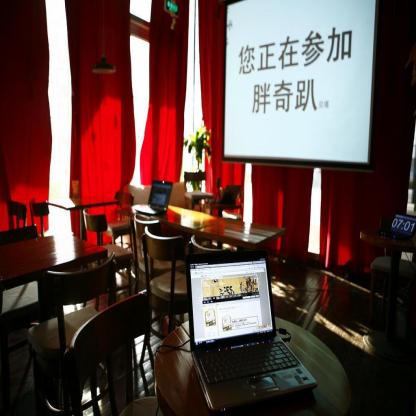board: (182, 250, 321, 409), (135, 180, 172, 214)
